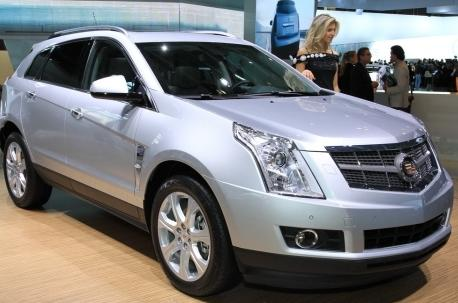front_view: (224, 107, 456, 282)
headlight: (229, 118, 326, 204)
side_glass: (22, 33, 145, 109)
